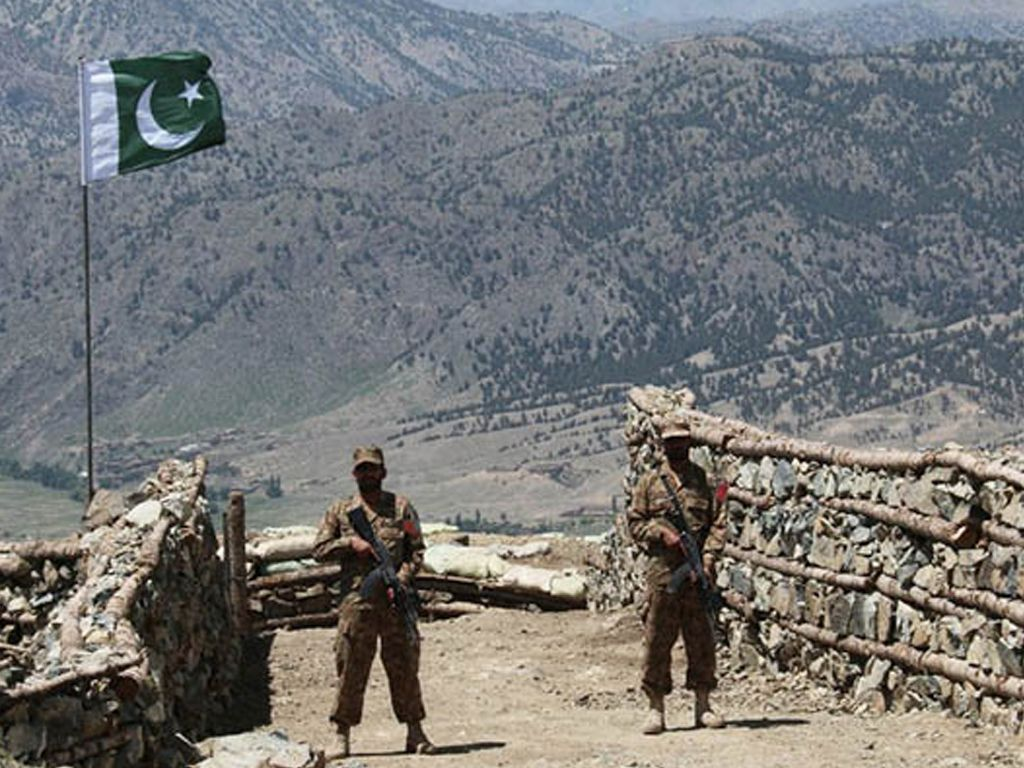gun: (336, 495, 436, 644), (644, 468, 728, 624)
uniform: (309, 428, 443, 757), (624, 411, 730, 714)
